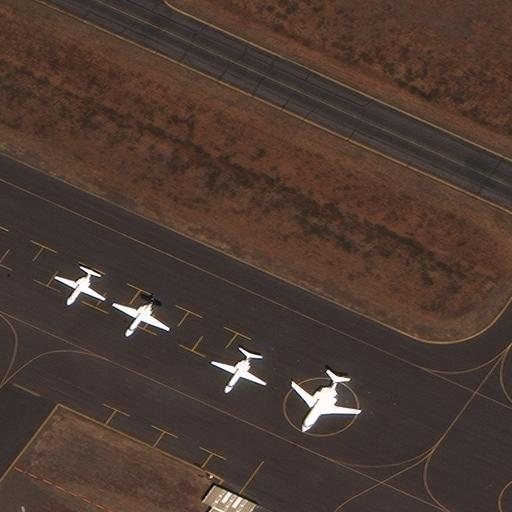Medium Civil Transport: (290, 376, 359, 431), (110, 297, 168, 336), (210, 352, 265, 392)
Small Civil Transport: (53, 269, 104, 305)
